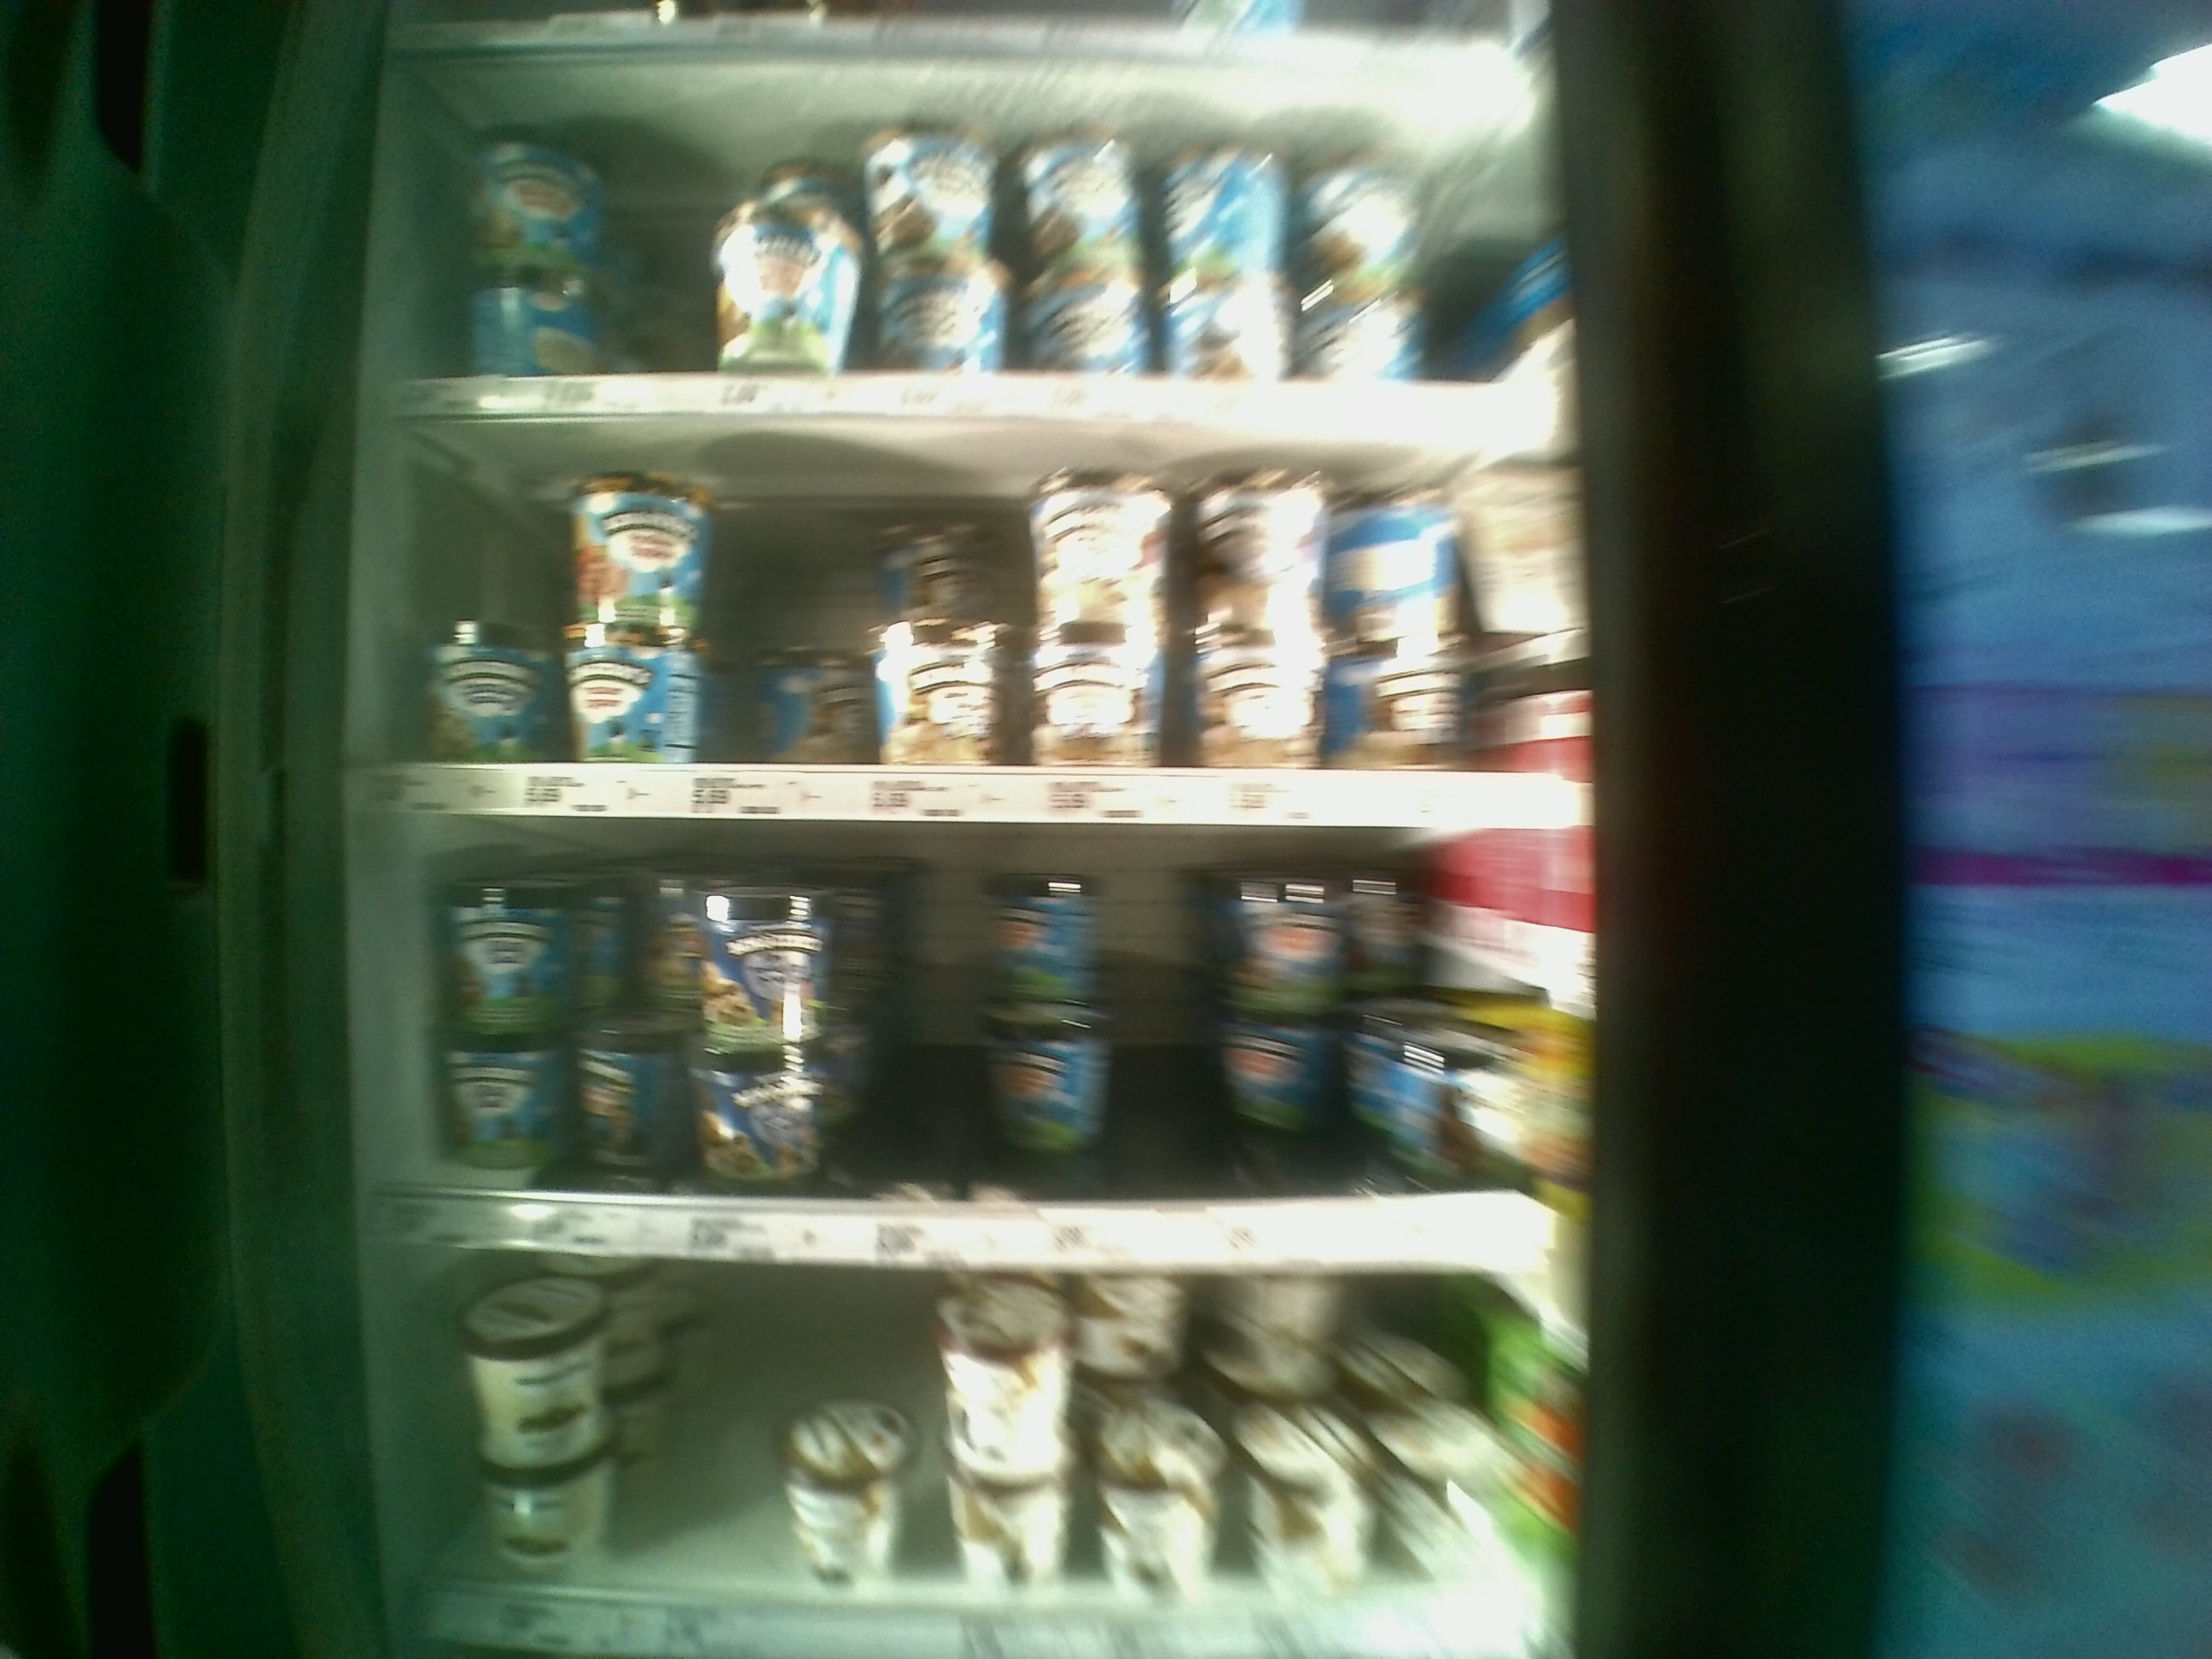shelf: (354, 824, 1595, 1256), (359, 413, 1571, 817), (359, 1256, 1576, 1647)
